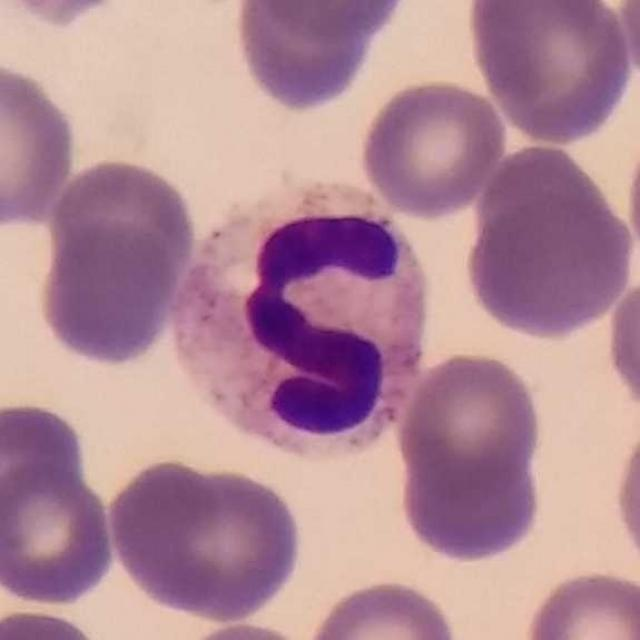Neutrophil: (160, 179, 442, 478)
RBC: (106, 456, 306, 624), (460, 179, 636, 340), (464, 0, 638, 147), (393, 348, 548, 503), (33, 222, 184, 370), (357, 74, 510, 220), (42, 155, 200, 296), (395, 443, 547, 565), (230, 0, 388, 116), (0, 456, 119, 610), (0, 54, 81, 231), (0, 394, 90, 542), (300, 574, 462, 640), (520, 565, 640, 640), (242, 0, 416, 42), (602, 270, 640, 420), (609, 407, 640, 588), (0, 0, 136, 31), (0, 604, 114, 640), (169, 617, 323, 640), (615, 1, 640, 98)
